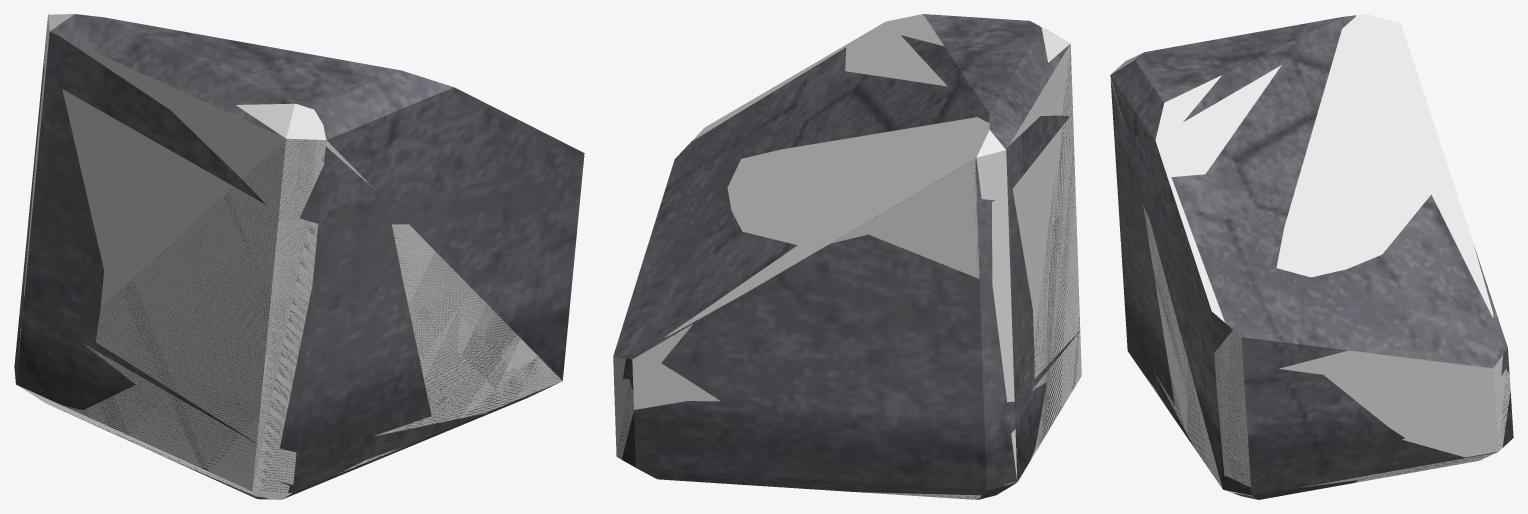
File: chunk.low.webp.glb
3 renders of one model, left to right at view 1: azimuth 30°, elevation 25°; view 2: azimuth 150°, elevation 25°; view 3: azimuth 270°, elevation 25°, orthographic. The views are drawn at different scales.
Visible parts, largest first — view 1: COL, LOD1_body, FRAC_3_l1, FRAC_1_l1, FRAC_0_l1, FRAC_2_l1; view 2: COL, FRAC_3_l1, FRAC_0_l1, FRAC_1_l1, LOD1_body; view 3: COL, FRAC_1_l1, LOD1_body, FRAC_3_l1, FRAC_0_l1, FRAC_2_l1.
Boxes of the visible parts, x1,y1,x2,y2 form: COL: (16,14,572,499); LOD1_body: (15,14,579,499); FRAC_3_l1: (23,68,431,452); FRAC_1_l1: (43,15,584,224); FRAC_0_l1: (14,277,534,499); FRAC_2_l1: (24,298,483,484); COL: (613,14,1081,499); FRAC_3_l1: (618,189,1034,404); FRAC_0_l1: (621,382,1046,495); FRAC_1_l1: (648,15,1069,243); LOD1_body: (613,14,1079,499); COL: (1110,14,1510,496); FRAC_1_l1: (1110,15,1398,377); LOD1_body: (1110,41,1510,491); FRAC_3_l1: (1114,141,1509,496); FRAC_0_l1: (1127,345,1513,499); FRAC_2_l1: (1125,319,1193,446).
Bounding box in the file's own units: 0.7031 × 0.6 × 0.648.
Materials: 1 (1 with a texture image).
